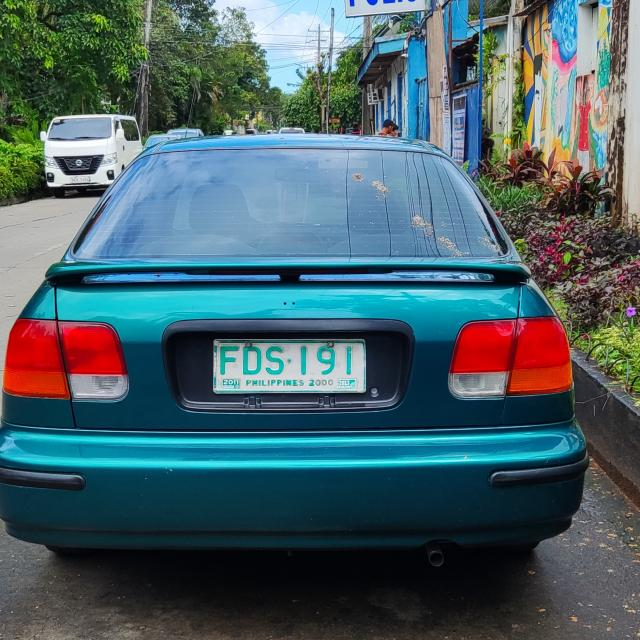plate: (212, 338, 366, 394)
